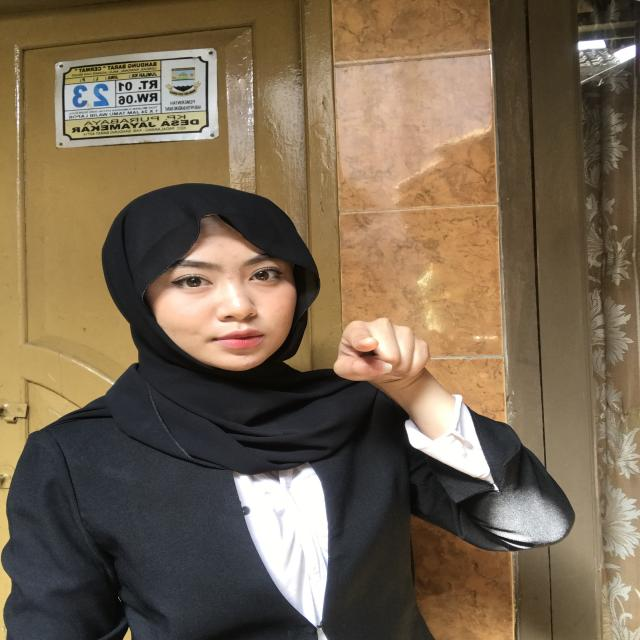kamu: (292, 299, 486, 431)
